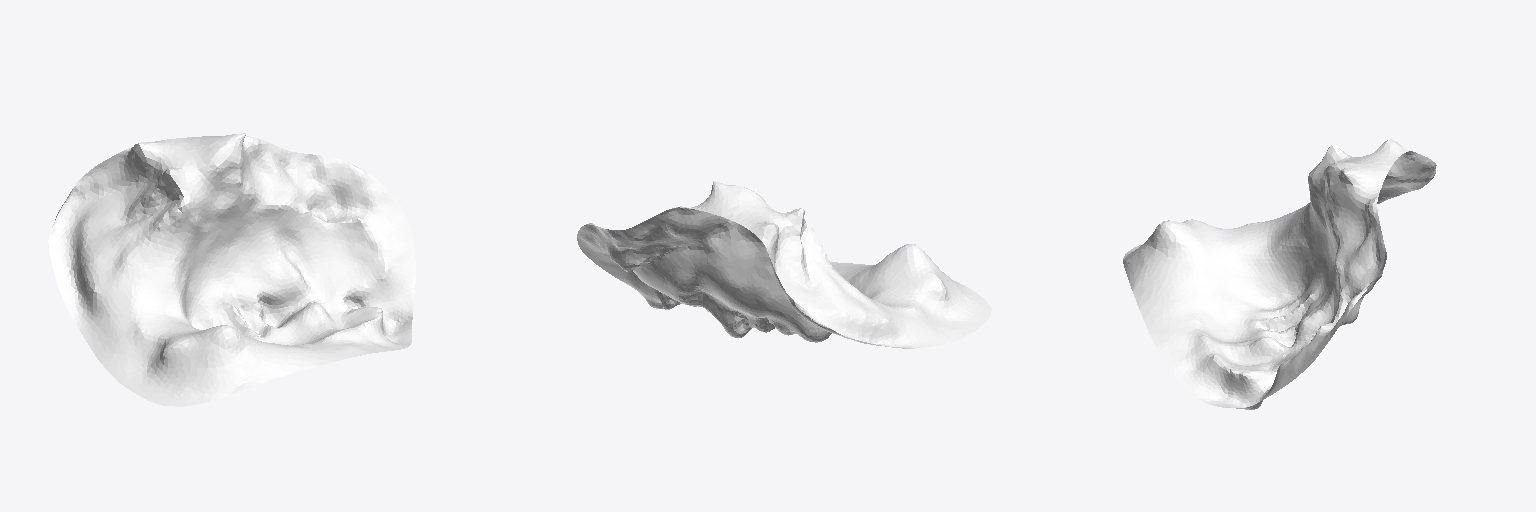
File: finley.obj
The picture shows the model from 3 angles: view 1: azimuth 30°, elevation 25°; view 2: azimuth 150°, elevation 25°; view 3: azimuth 270°, elevation 25°; orthographic projection.
Size of the model in its own units: 32.35 by 16.92 by 25.75.